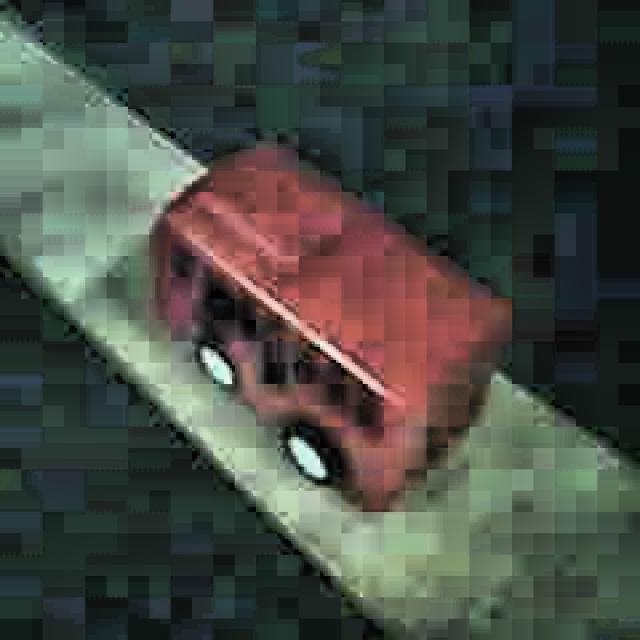bus: (146, 138, 513, 515)
